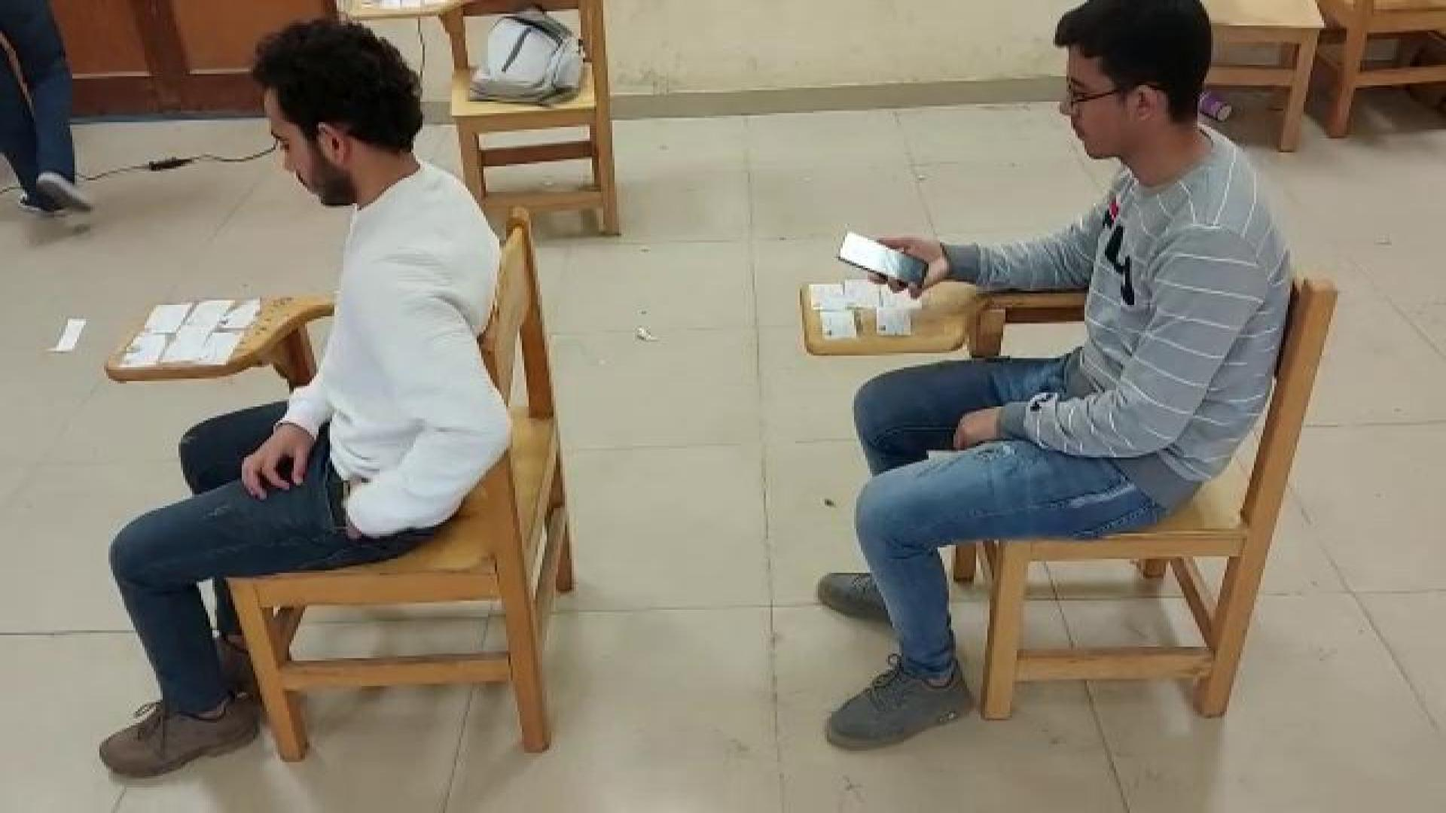phone: (836, 231, 929, 293)
